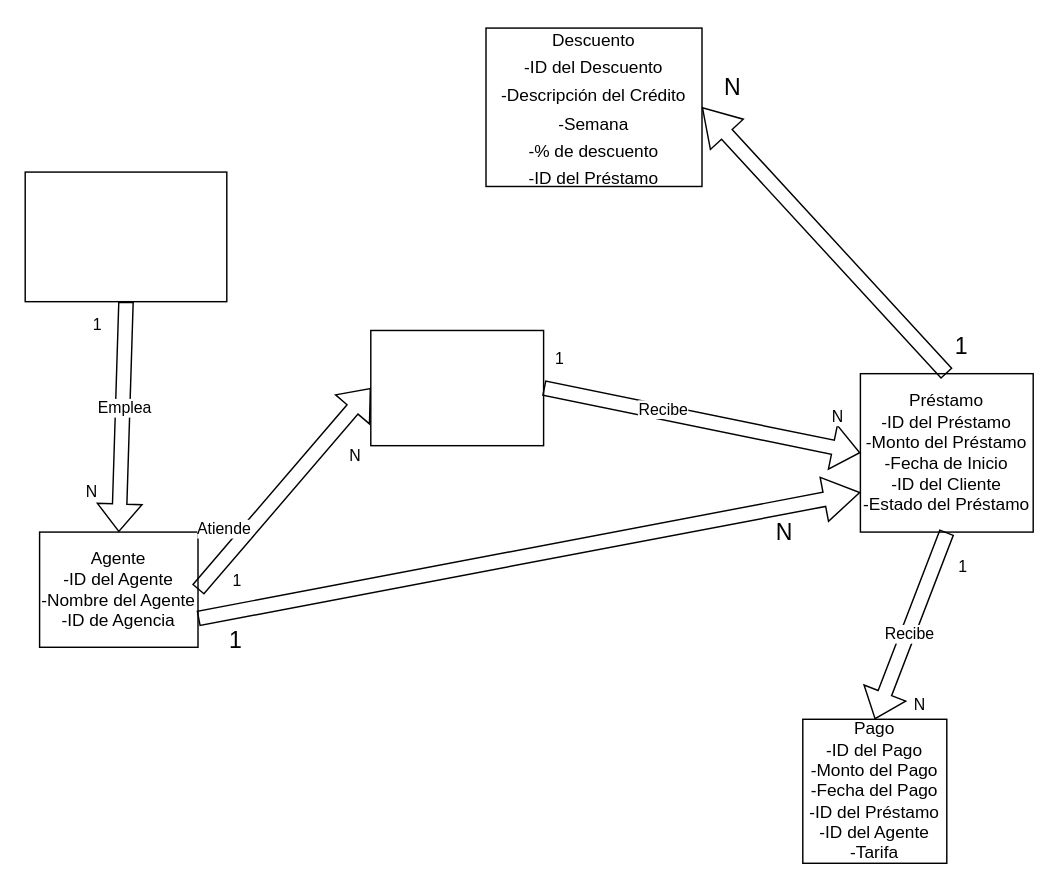
This 1058x888 diagram has some shape labels left out. The shapes that lost their labels are listed below. From the top down, each one's centre as x and y in pixels, then its label:
the point at 125,236: Agencia -ID de Agencia -Nombre -Nivel -Ubicación
the point at 456,387: Cliente -ID del Cliente -Nombre del Cliente -Información de Contacto
